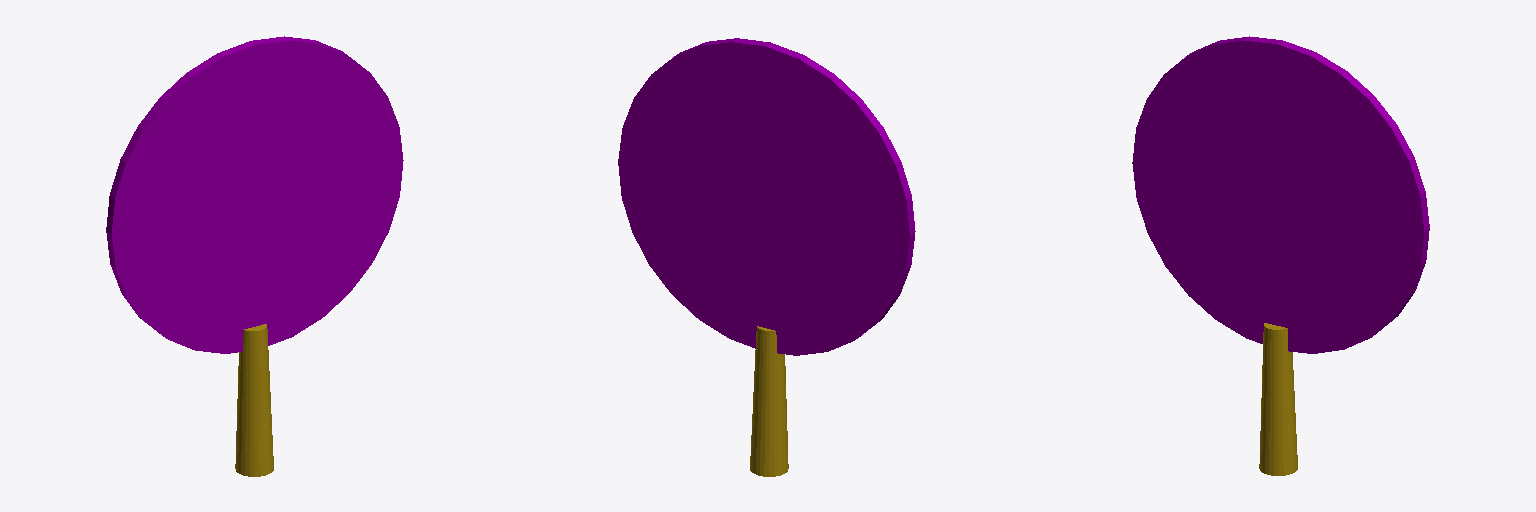
File: paleta.obj
3 views of the same model, side by side, from view 1: azimuth 30°, elevation 25°; view 2: azimuth 150°, elevation 25°; view 3: azimuth 330°, elevation 25° (orthographic).
Visible parts, largest first — view 1: Mesh01, Mesh02; view 2: Mesh01, Mesh02; view 3: Mesh01, Mesh02.
Boxes of the visible parts, x1=… form: Mesh01: x1=106, y1=36, x2=403, y2=353; Mesh02: x1=235, y1=324, x2=273, y2=476; Mesh01: x1=618, y1=38, x2=915, y2=355; Mesh02: x1=750, y1=326, x2=788, y2=476; Mesh01: x1=1132, y1=36, x2=1429, y2=353; Mesh02: x1=1259, y1=323, x2=1297, y2=475.
Size of the model in its own units: 15.1 by 21.02 by 1.74.